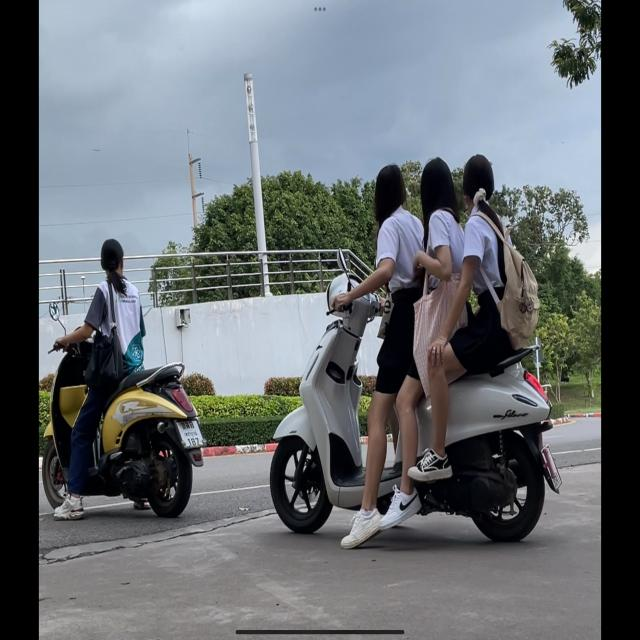seatbelt: (419, 156, 455, 214), (461, 152, 495, 208), (374, 163, 406, 220), (99, 237, 126, 278)
